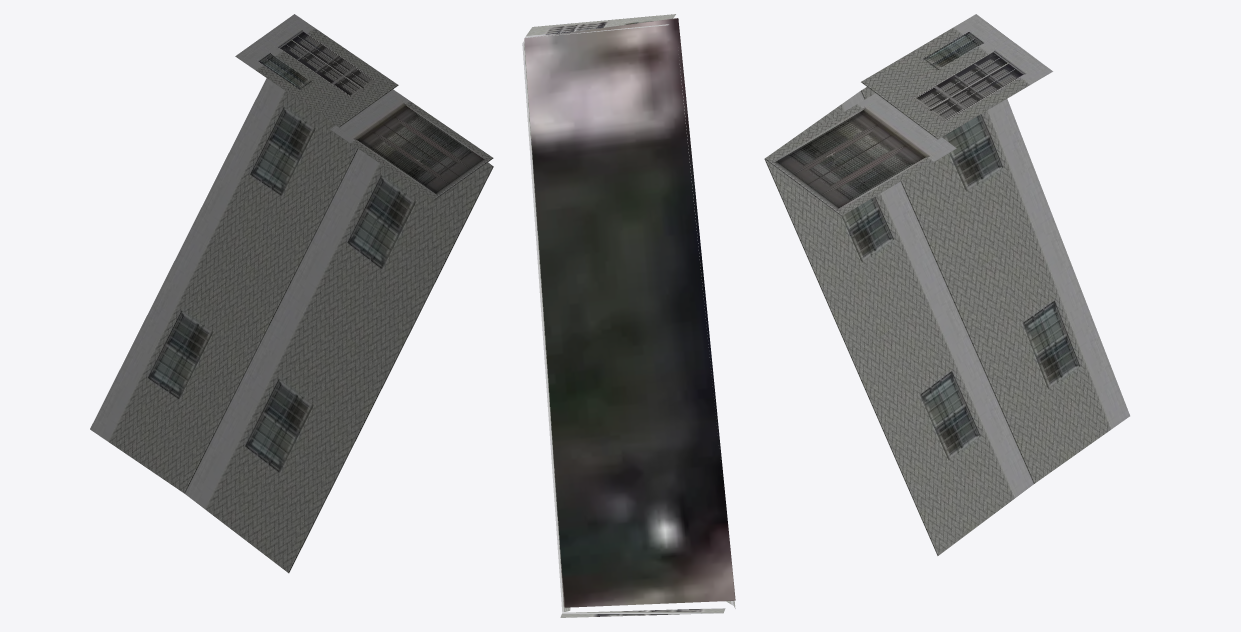
The model's file is tile_LOD4_r1_c4.glb.
3 views of the same model, side by side, from view 1: azimuth 30°, elevation 25°; view 2: azimuth 150°, elevation 25°; view 3: azimuth 270°, elevation 25° (orthographic). The views are drawn at different scales.
Bounding box in the file's own units: 10.25 × 16.25 × 12.
5 materials, 5 textured.
